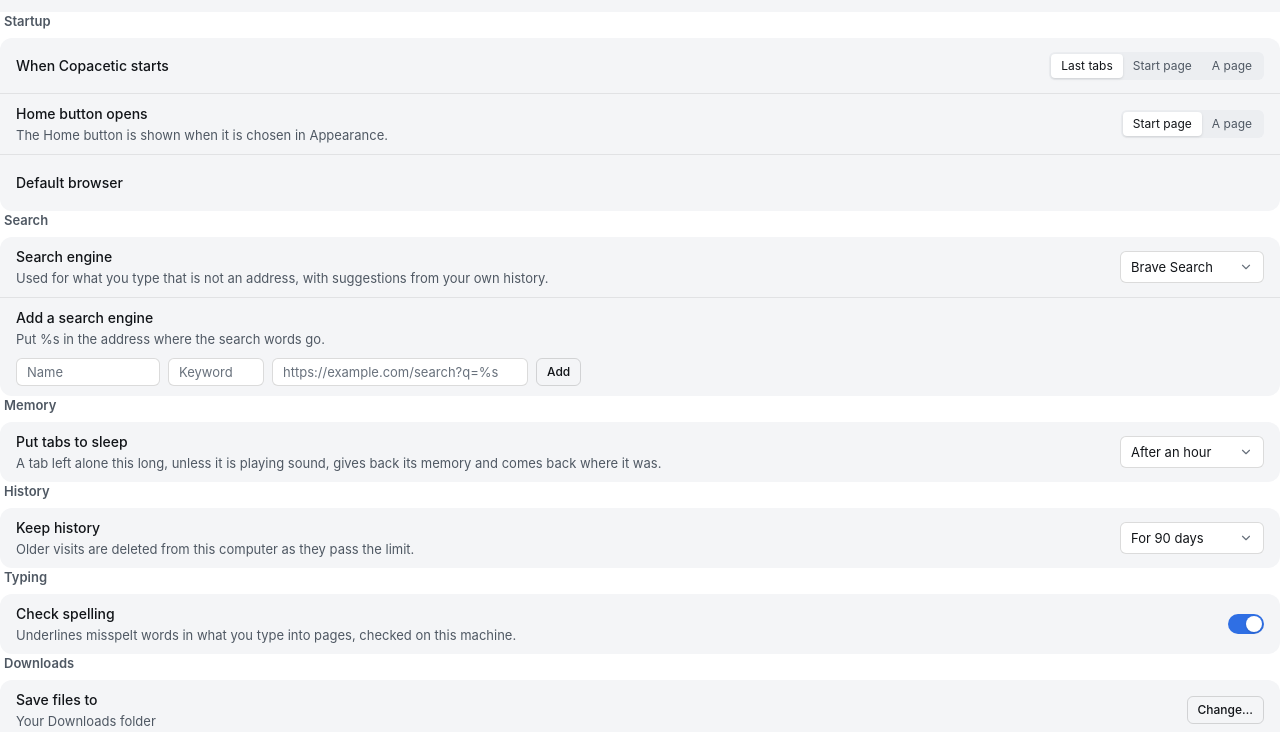
Test: search engines someone adds › says what is wrong rather than adding an address with nowhere for the search
Step 1. Type "Maps" into the field labelled "Name" → (88,372), box [16, 358, 160, 386]
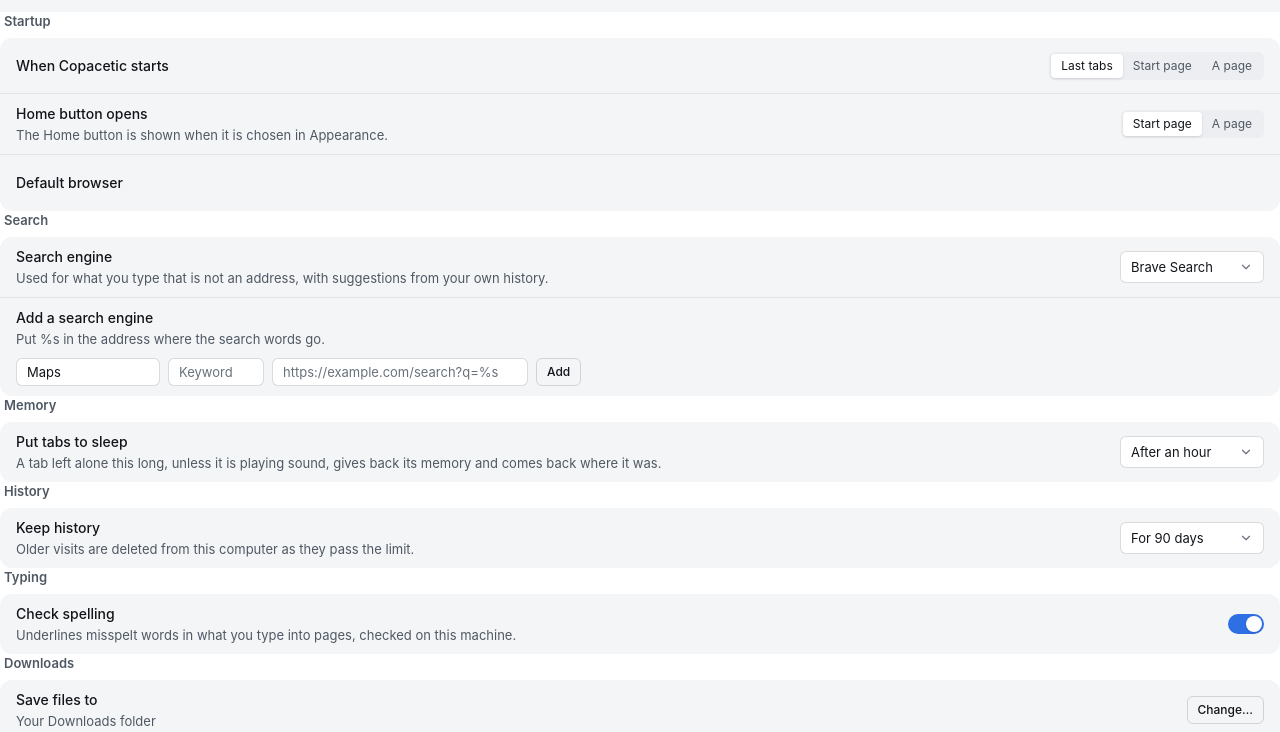
Step 2. Type "m" into the field labelled "Keyword" → (216,372), box [168, 358, 264, 386]
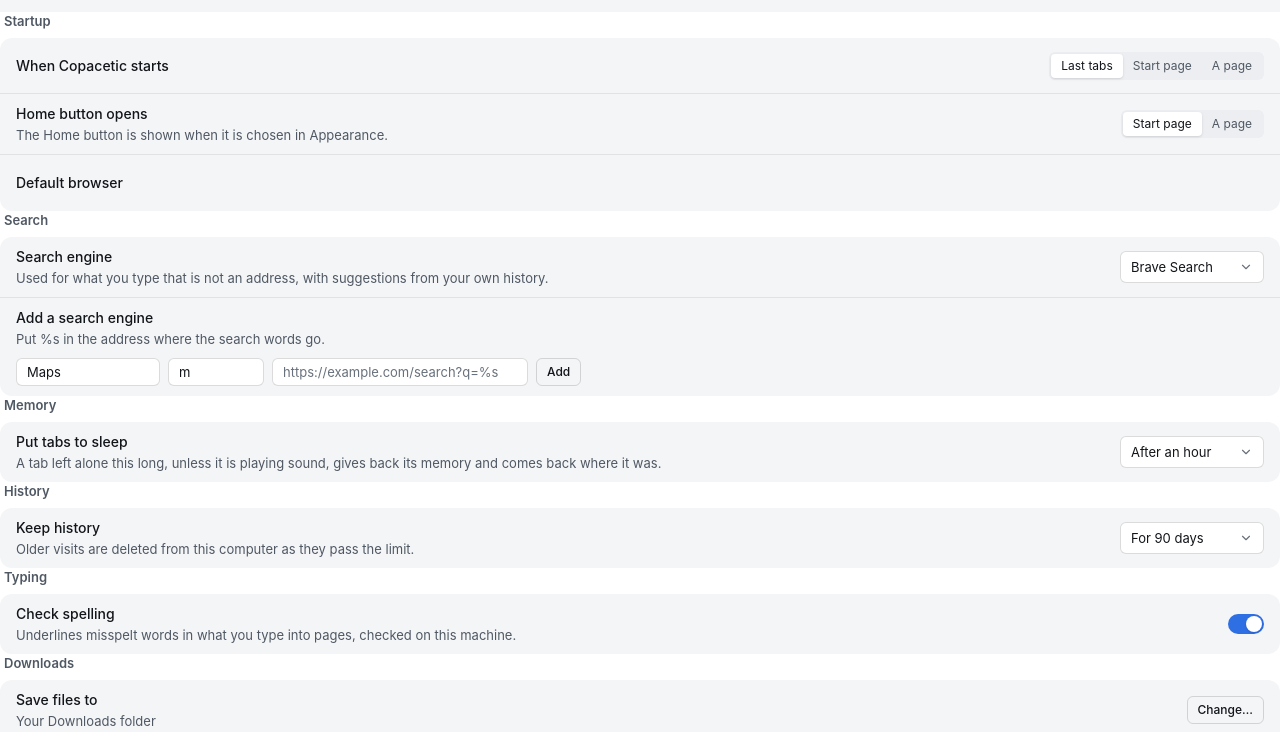
Step 3. Type "https://maps.example/" into the field named "Address, with %s for the search" → (400,372), box [272, 358, 528, 386]
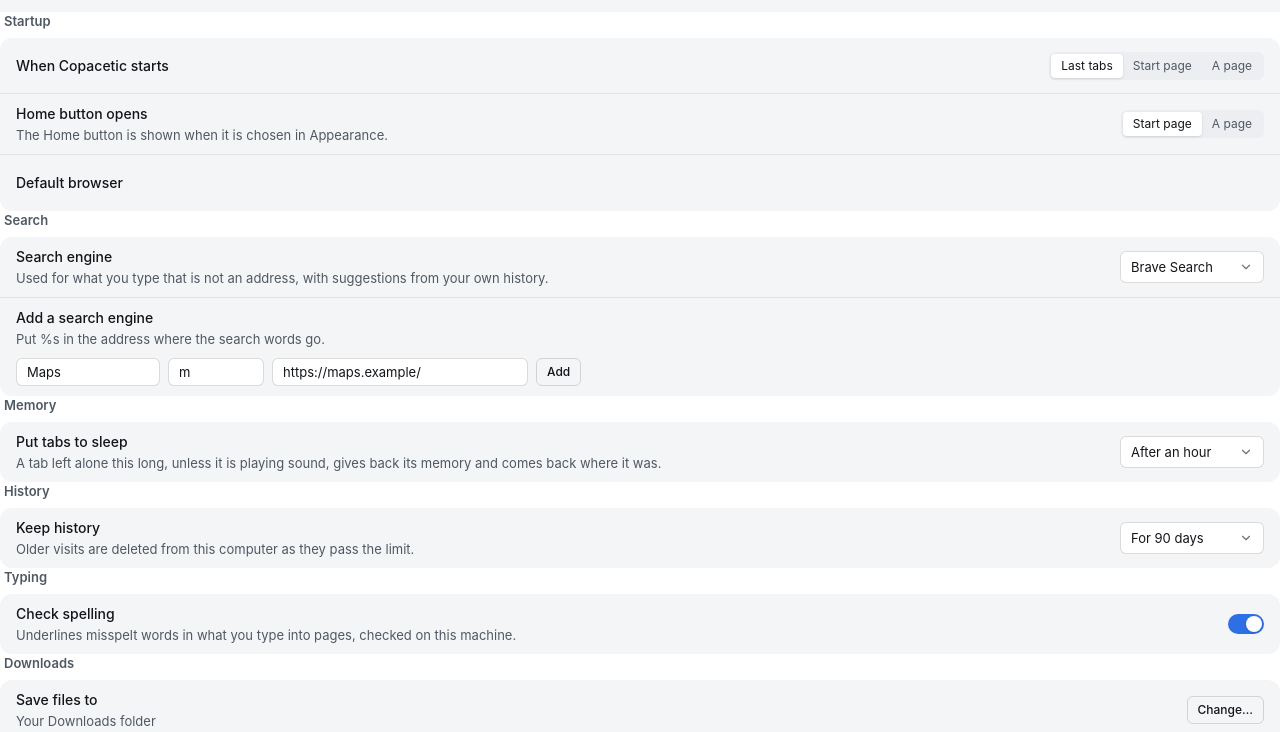
Step 4. Click the button "Add" → (559,372), box [536, 358, 581, 386]
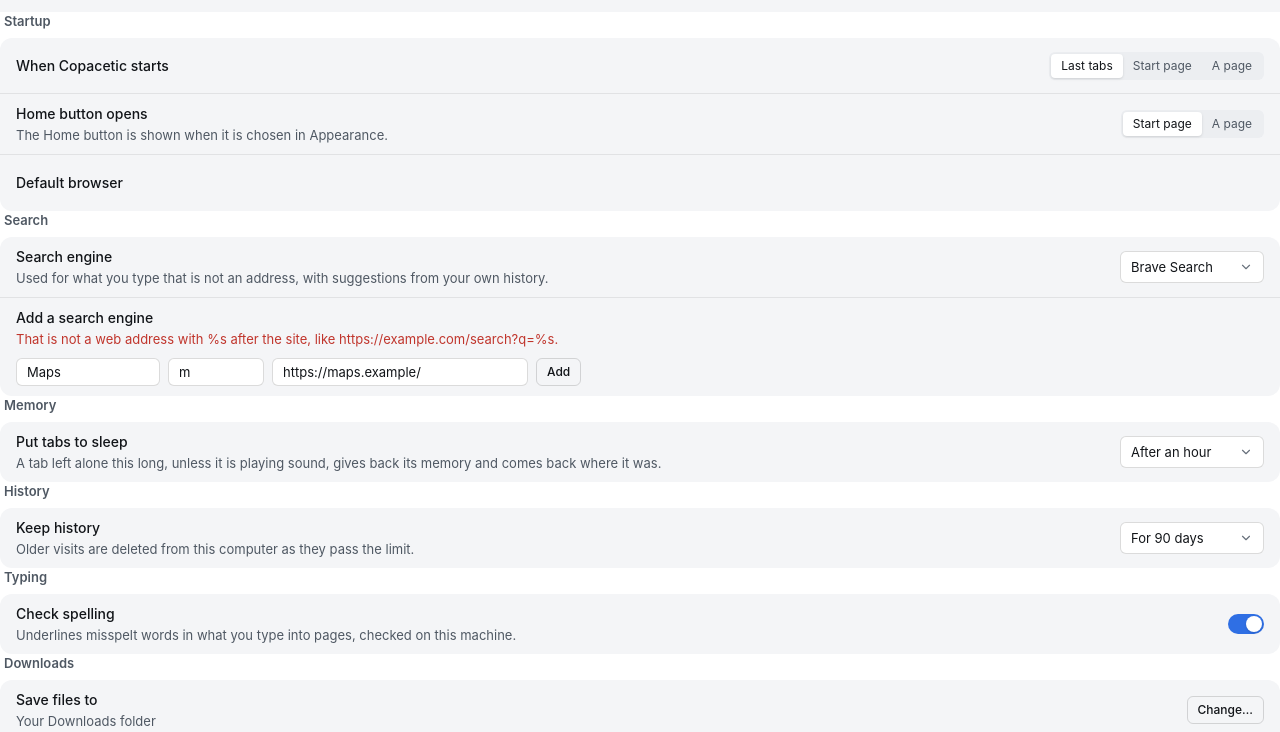
Check: the text "with %s after the site" is shown, box [16, 331, 558, 347]
